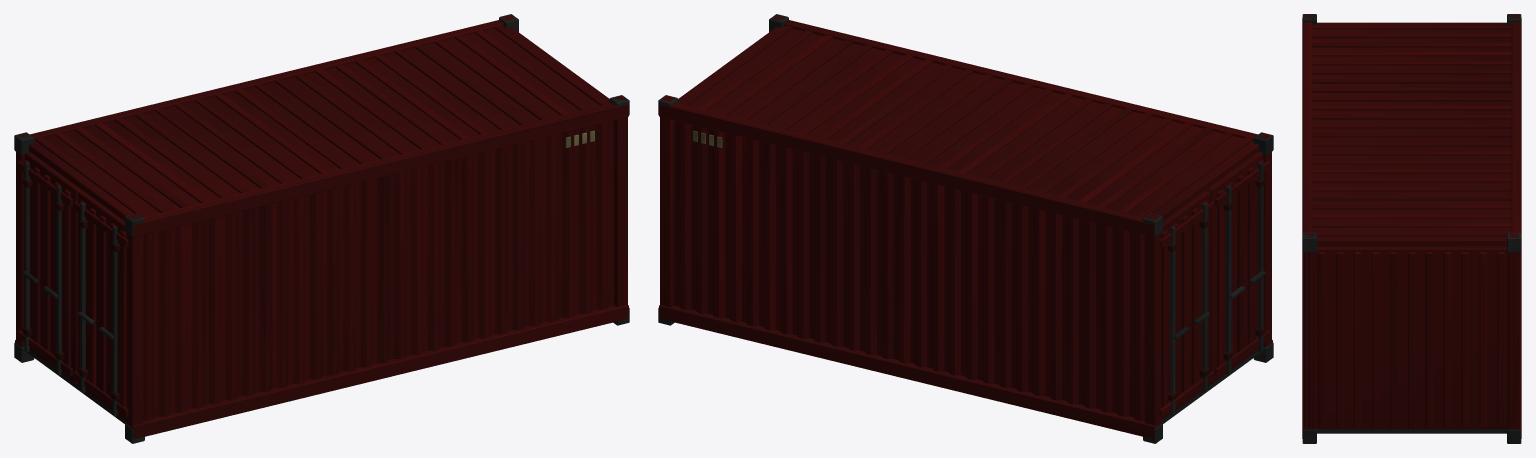
Rendered from MetalSteezy_Conteneur_Rouge.fbx.
The picture shows the model from 3 angles, left to right: view 1: azimuth 30°, elevation 25°; view 2: azimuth 150°, elevation 25°; view 3: azimuth 270°, elevation 25°; orthographic projection. The views are drawn at different scales.
Parts seen in each view (by area): view 1: MetalSteezy_Conteneur_Rouge; view 2: MetalSteezy_Conteneur_Rouge; view 3: MetalSteezy_Conteneur_Rouge.
Boxes of the visible parts, x1,y1,x2,y2 form: MetalSteezy_Conteneur_Rouge: [14, 14, 629, 443]; MetalSteezy_Conteneur_Rouge: [658, 14, 1273, 443]; MetalSteezy_Conteneur_Rouge: [1302, 14, 1521, 443].
Size of the model in its own units: 6.16 by 2.51 by 2.6.
